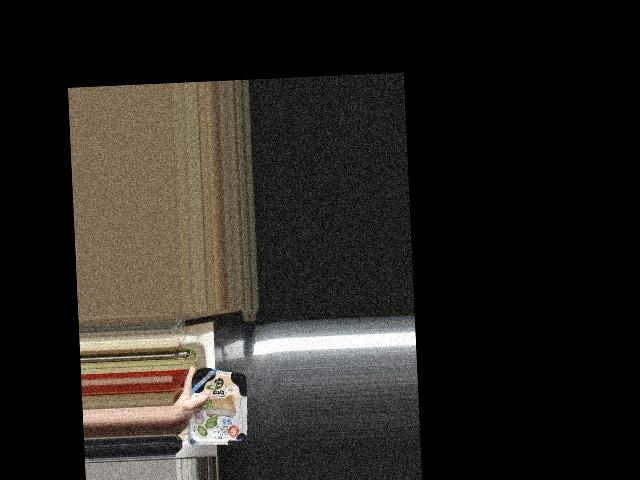cheese: (185, 365, 248, 444)
